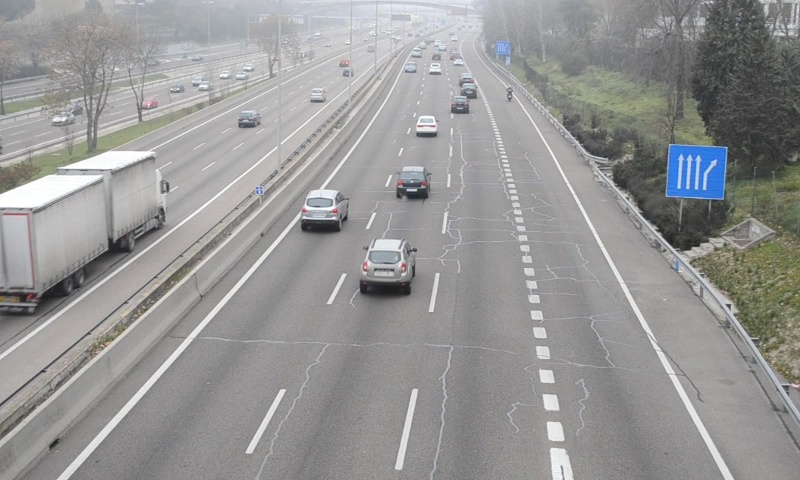car: (362, 238, 414, 284), (302, 189, 348, 222), (396, 165, 430, 195), (416, 114, 438, 136), (450, 96, 470, 114)
motorcycle: (506, 84, 514, 102)
